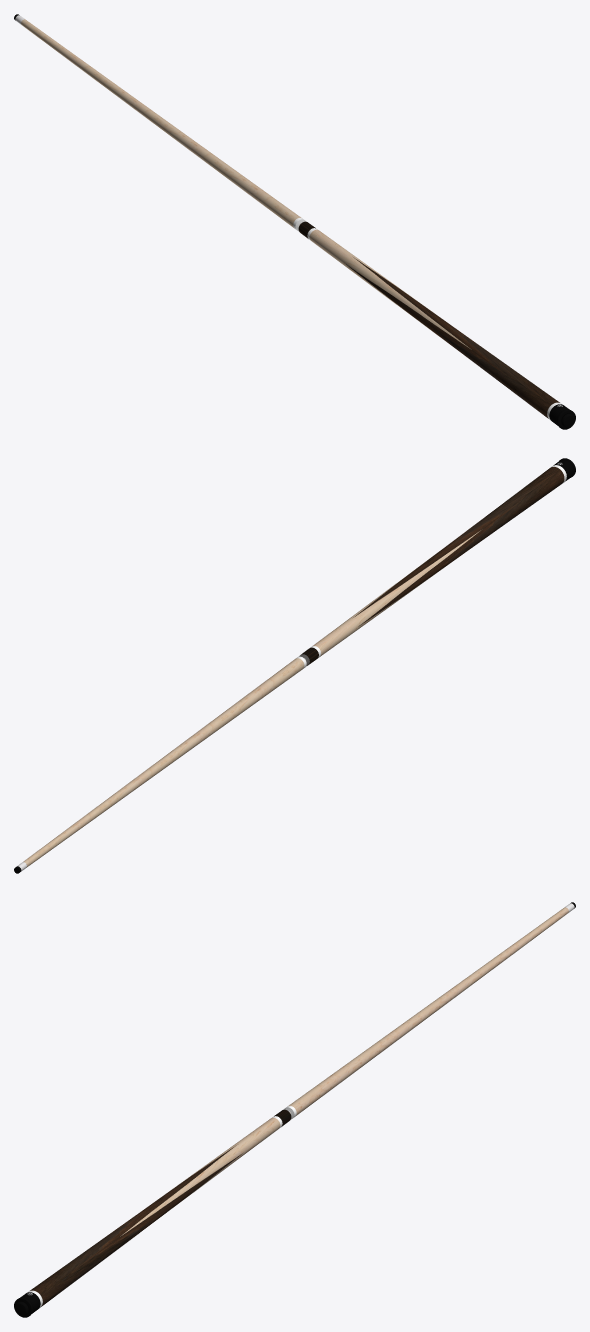
Rendered from FullSpliceCue_v1-transformed.glb.
The picture shows the model from 3 angles, top to bottom: view 1: azimuth 30°, elevation 25°; view 2: azimuth 150°, elevation 25°; view 3: azimuth 330°, elevation 25°; orthographic projection.
Parts seen in each view (by area): view 1: Shaft, Handle; view 2: Shaft, Handle; view 3: Shaft, Handle.
Boxes of the visible parts, bbox=[...] form: Shaft: bbox=[21, 19, 471, 349]; Handle: bbox=[346, 257, 559, 418]; Shaft: bbox=[23, 530, 480, 867]; Handle: bbox=[353, 467, 564, 626]; Shaft: bbox=[120, 907, 568, 1236]; Handle: bbox=[30, 1145, 242, 1306].
Bounding box in the file's own units: 28 × 28 × 1481.
Materials: 8 (4 with a texture image).
